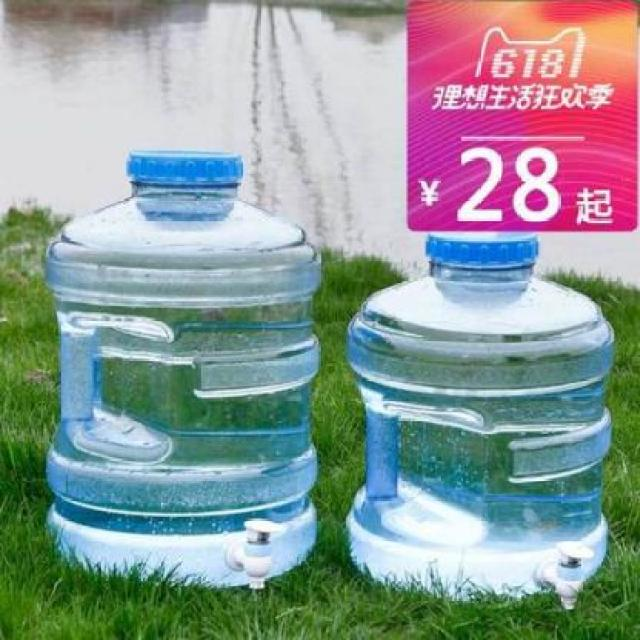coolerbottle: (40, 148, 328, 589), (343, 234, 624, 608)
